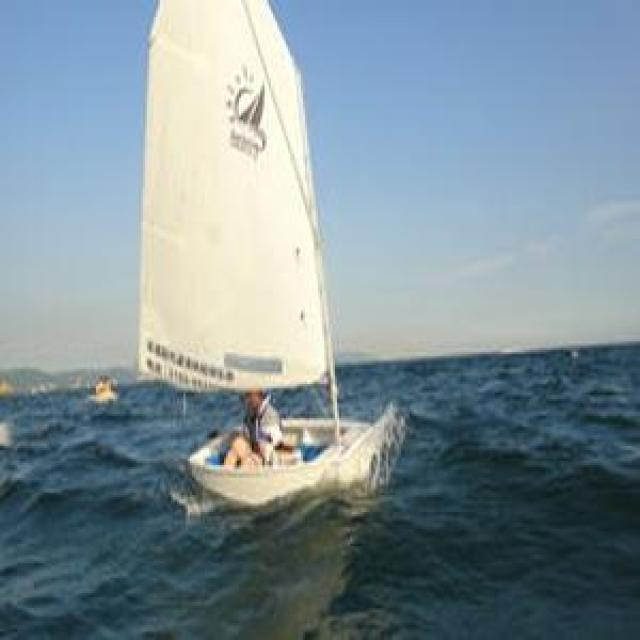sailboat: (131, 5, 417, 523)
